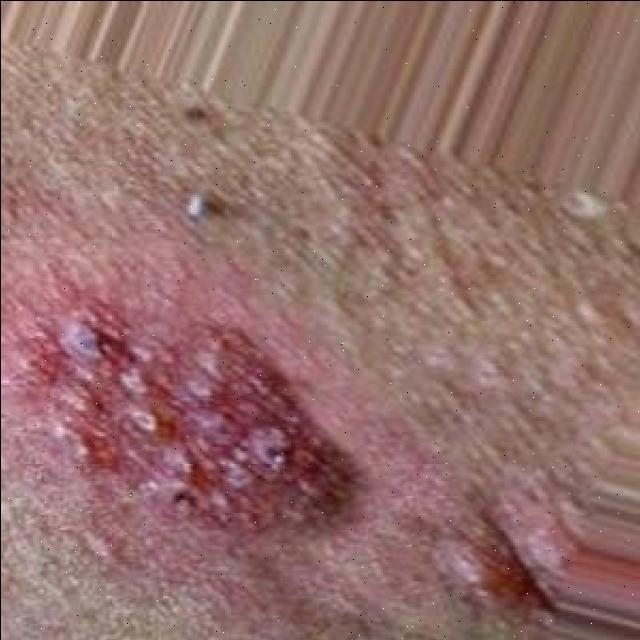Shingles: (25, 289, 350, 531)
